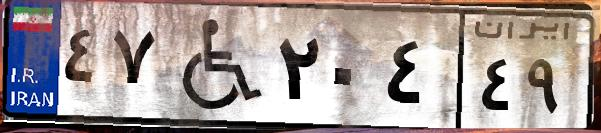0: (330, 28, 385, 110)
2: (270, 28, 330, 110)
4: (385, 28, 445, 110), (57, 26, 110, 100), (475, 38, 525, 113)
7: (110, 28, 158, 98)
9: (525, 38, 570, 115)
ژ (معلولین و جانبازان): (158, 12, 270, 120)
